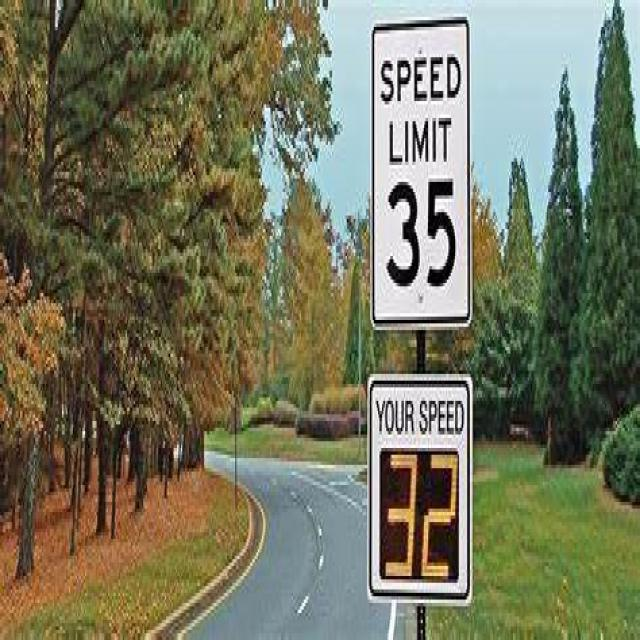speedLimit35: (369, 26, 471, 336)
